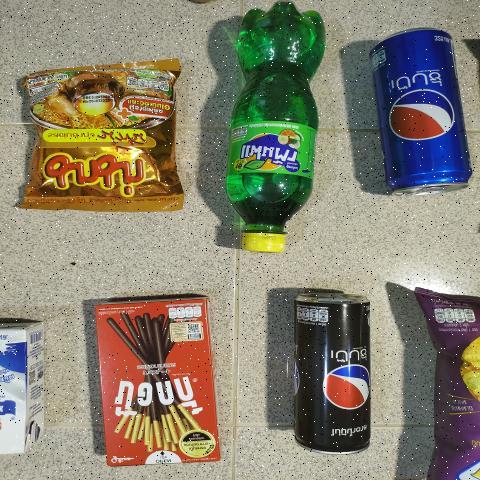fanta_green: (220, 0, 326, 257)
mama: (19, 63, 181, 205)
pepsi_black: (292, 289, 373, 456)
pepsi_blue: (374, 23, 470, 209)
pokki: (107, 302, 212, 466)
